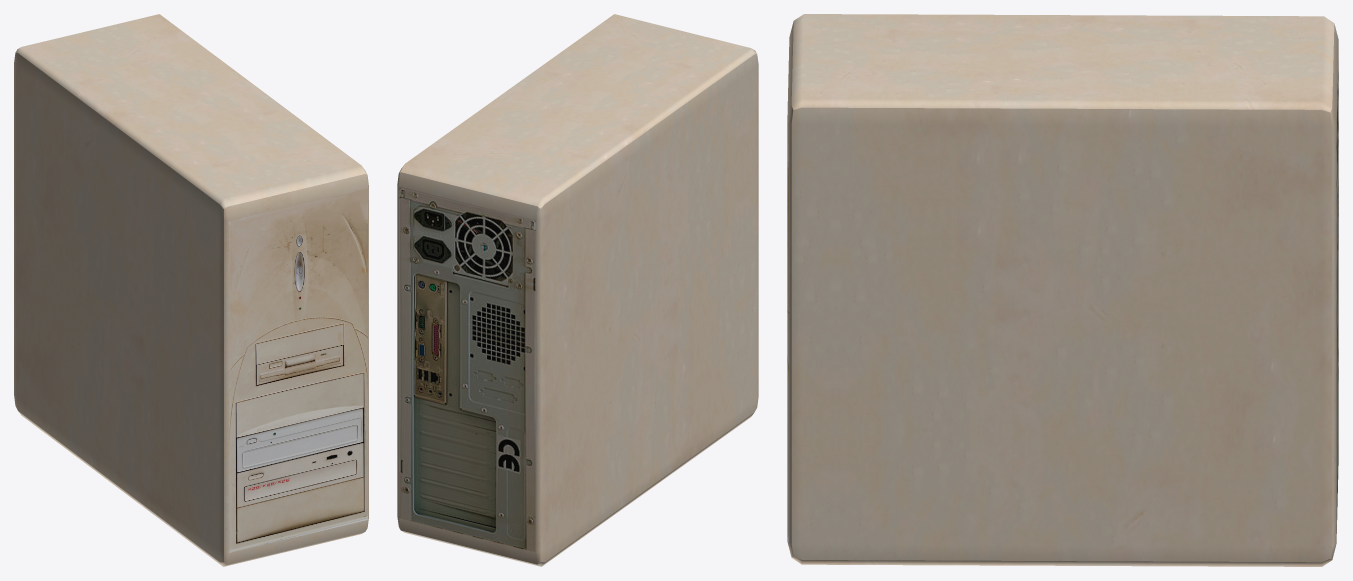
Rendered from cpu.fbx.
The picture shows the model from 3 angles, left to right: view 1: azimuth 30°, elevation 25°; view 2: azimuth 150°, elevation 25°; view 3: azimuth 270°, elevation 25°; orthographic projection. The views are drawn at different scales.
Visible parts, largest first — view 1: CPU; view 2: CPU; view 3: CPU.
Part boxes in pixels (x1,y1,x2,y2): CPU: (14,14,368,566); CPU: (397,14,758,566); CPU: (787,14,1338,566).
Bounding box in the file's own units: 15 × 35.11 × 37.65.
